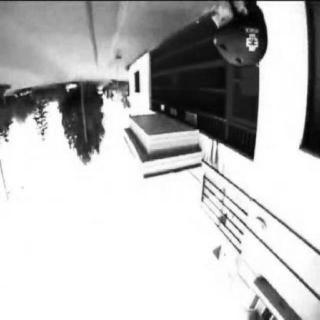other: (97, 83, 129, 143)
